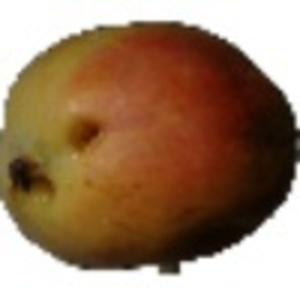mamão: (4, 14, 293, 266)
